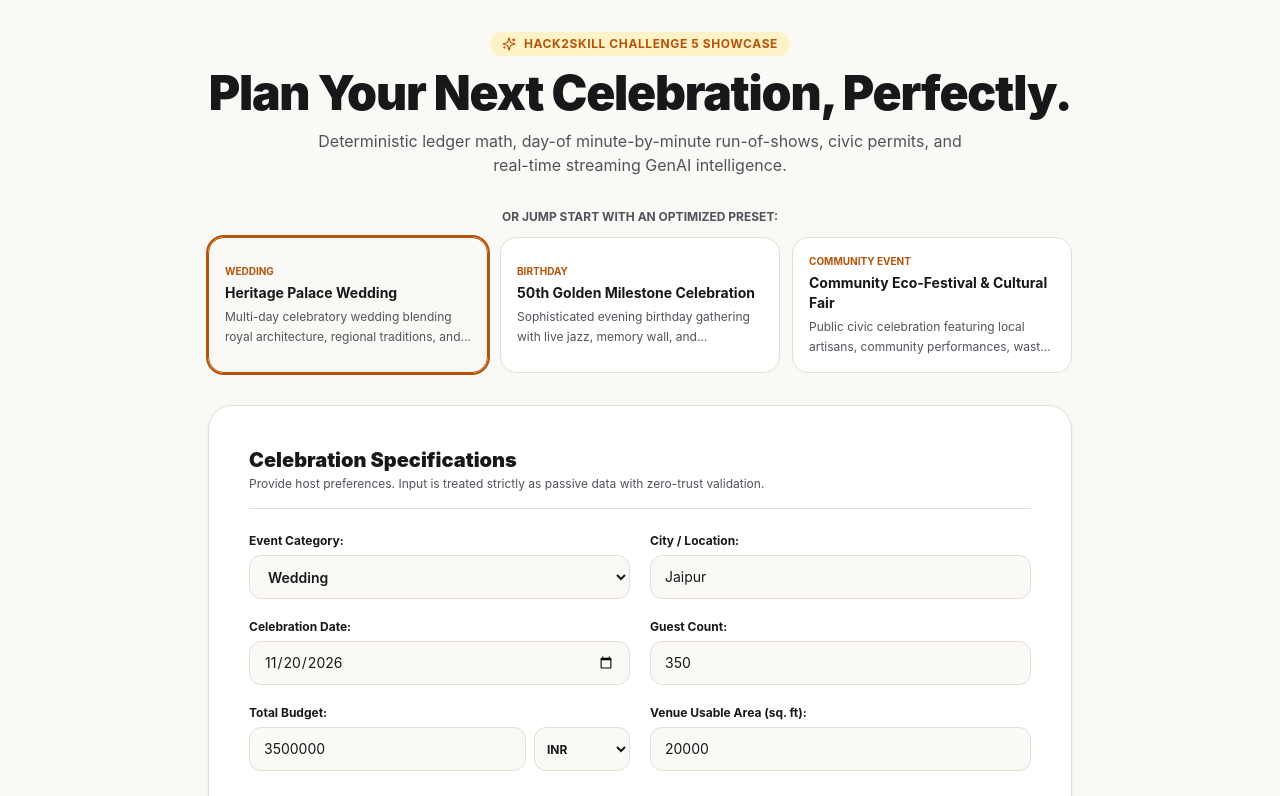
Test: IntakeForm Component Flow › validates required fields before submitting
Clear the field labelled "City / Location:" at [840, 577], box [650,555,1031,599]
(page scrolled)
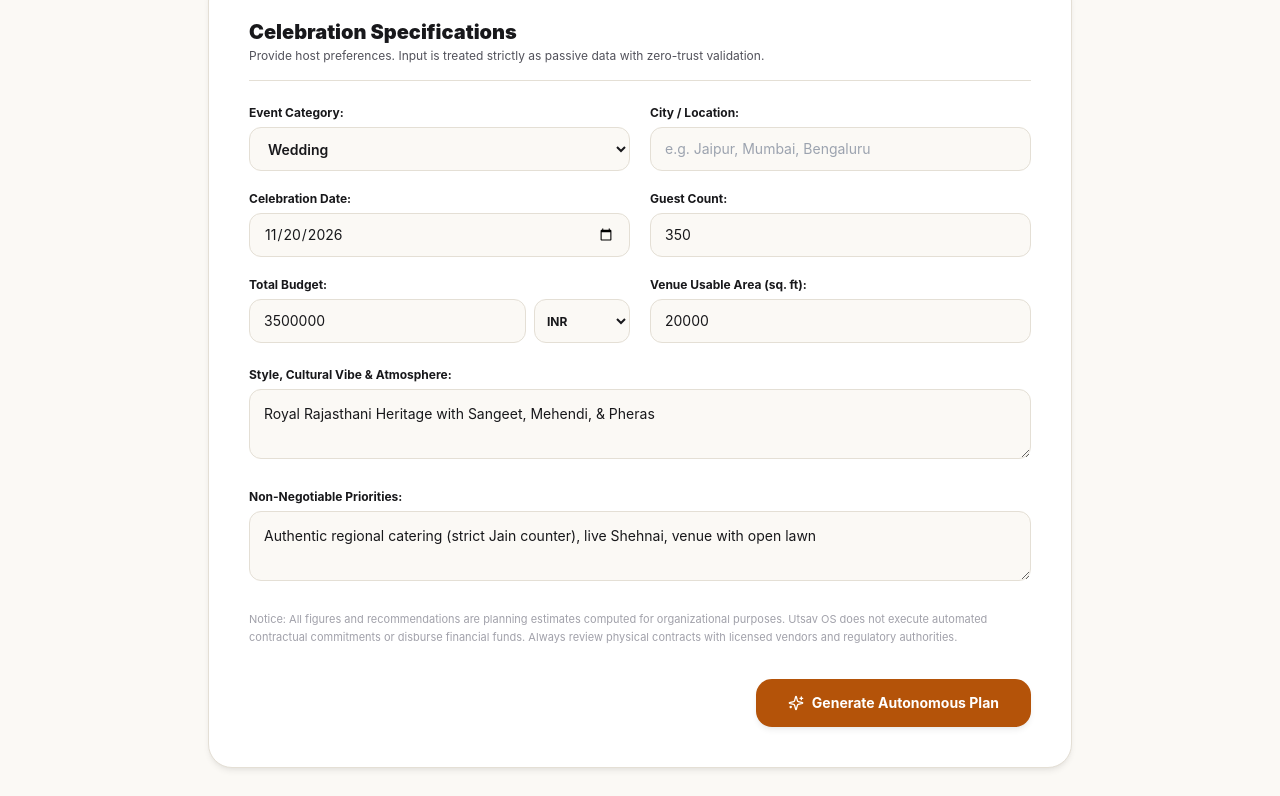
Click the button "Generate Autonomous Plan" at [893, 703], box [756,679,1031,727]
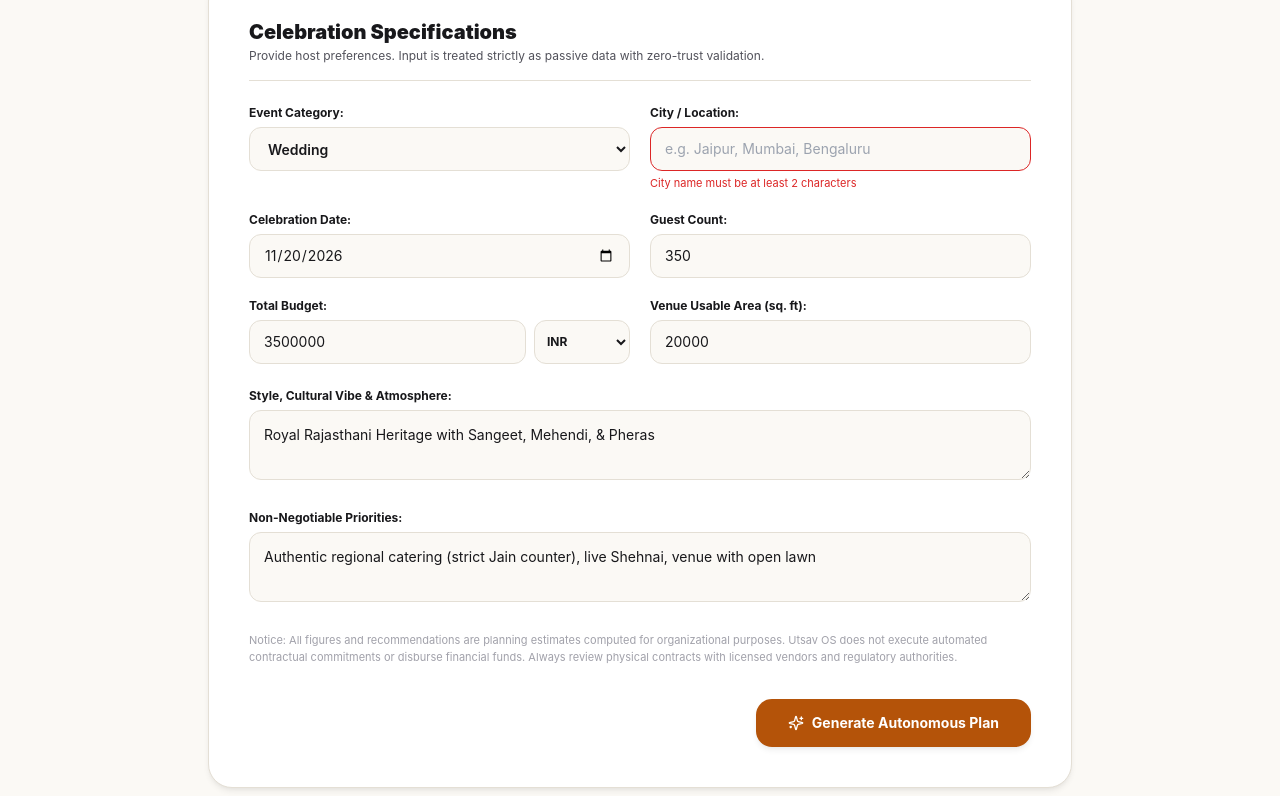
Result: the text "City name must be at least 2 characters" is shown at [650,176,856,190]
